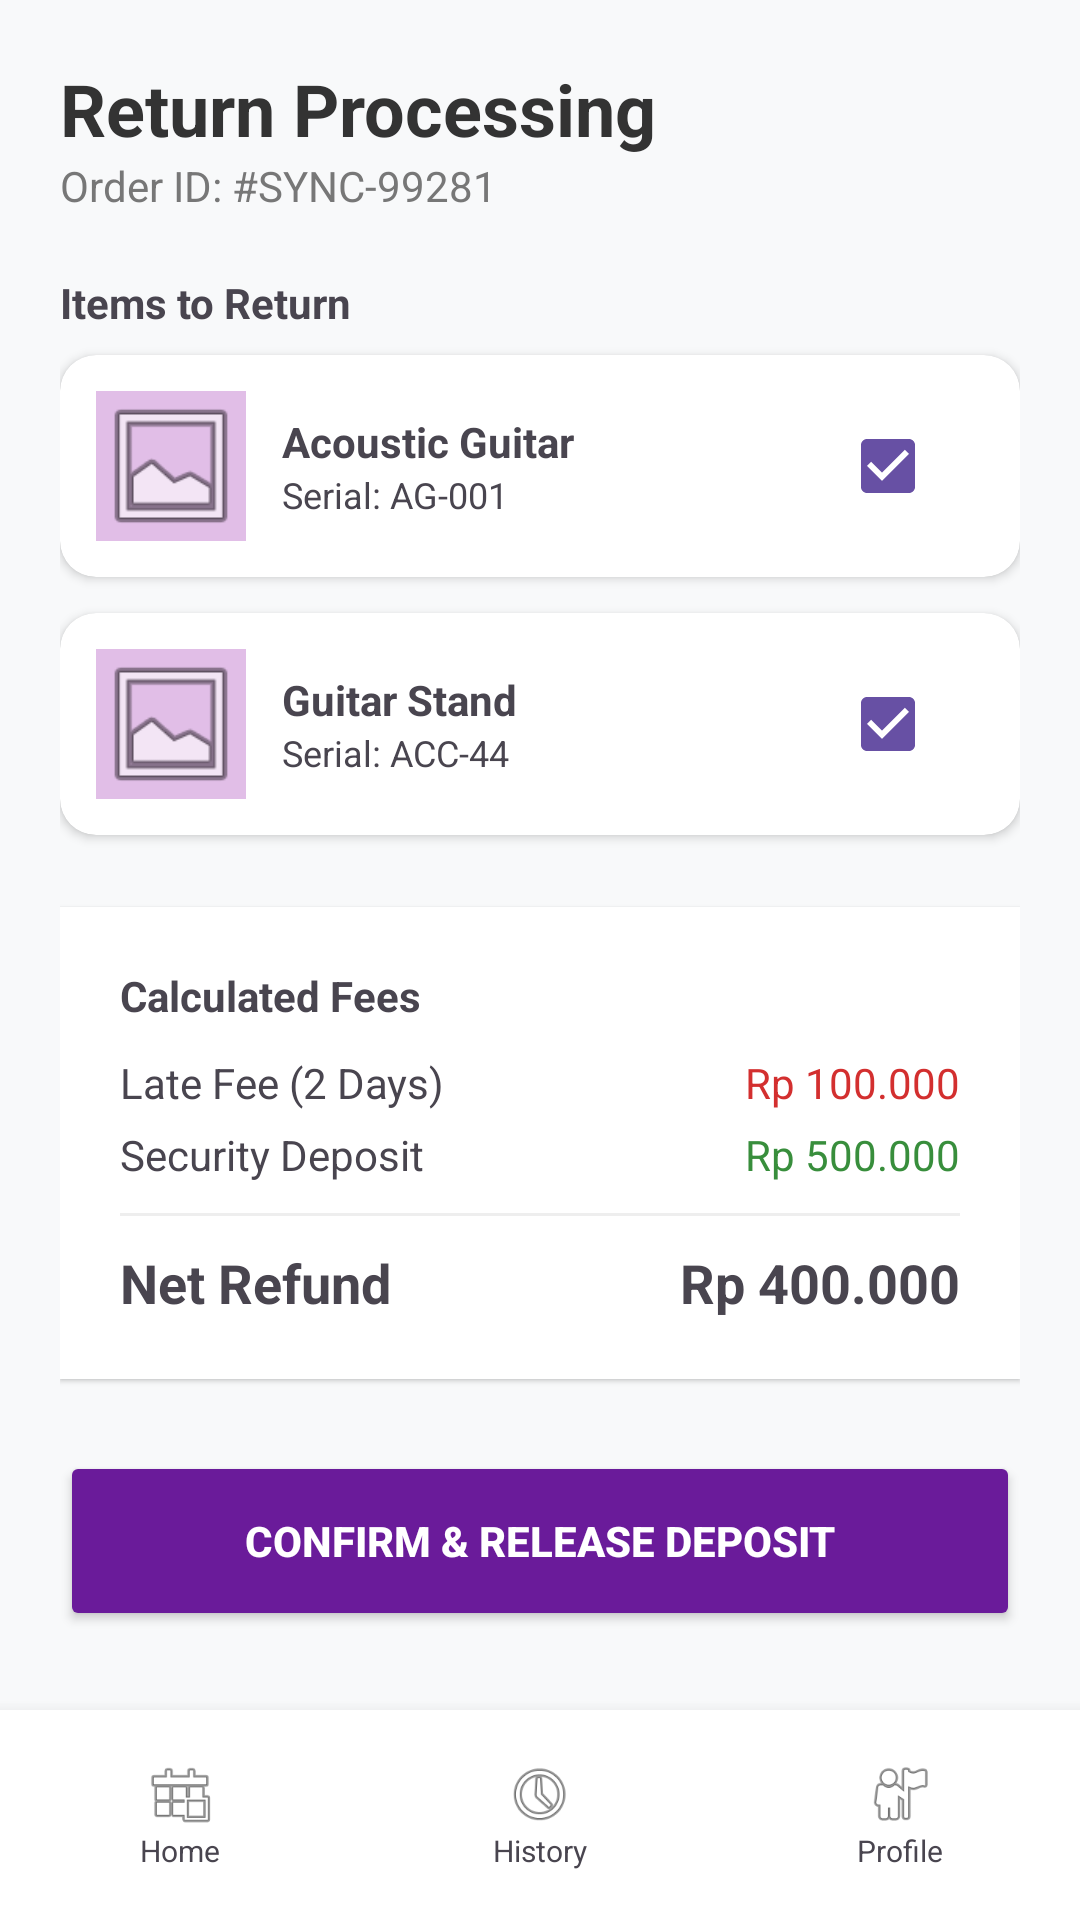

Icons on this 1080w x 1920h Android screen, each with the point to tap as (x,y):
gallery: (171,466), (171,724)
today: (180,1795)
